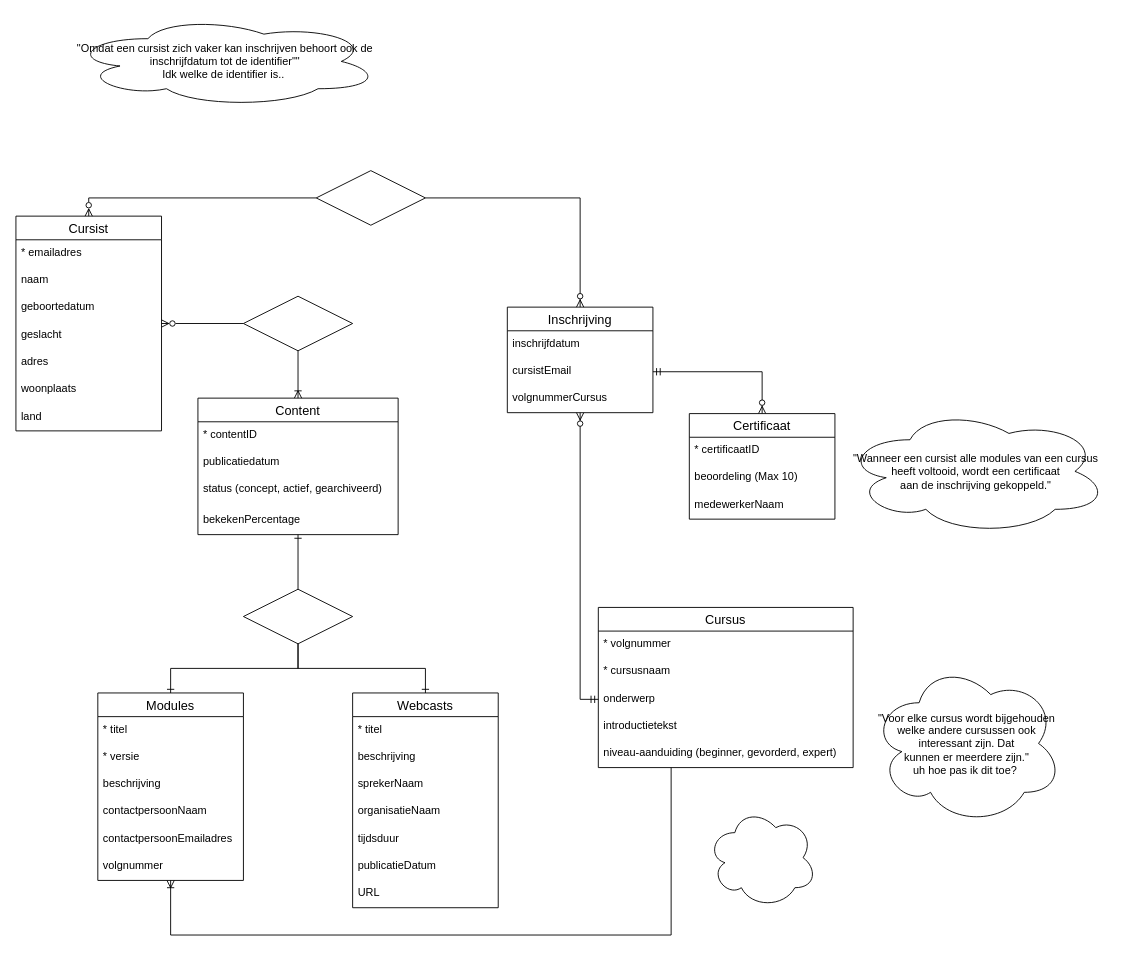
Some shapes in this 1124 by 958 pixel diagram are drawn without their labels. Each missing label, with the centre of its shape:
bekijkt content items: [298,323]
is een: [298,616]
schrijft in/herinschrijving: [370,197]
Weet niet welk relatie hier moet staan...: [762,857]
